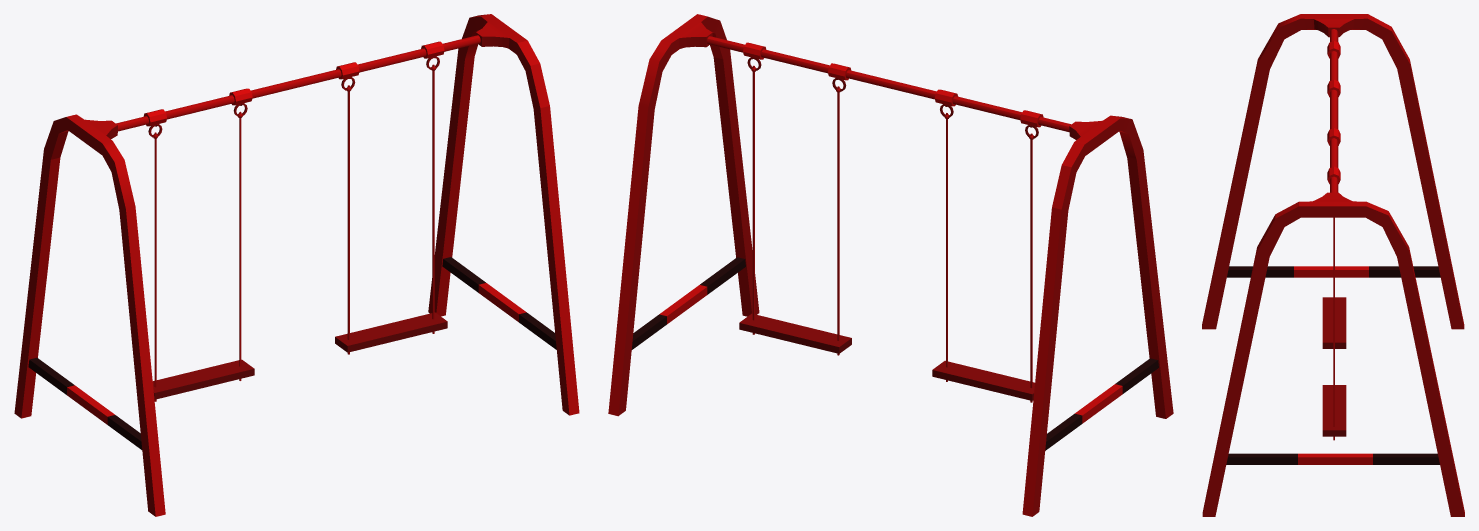
The model's file is Swing.glb.
The picture shows the model from 3 angles, left to right: view 1: azimuth 30°, elevation 25°; view 2: azimuth 150°, elevation 25°; view 3: azimuth 270°, elevation 25°; orthographic projection. The views are drawn at different scales.
Parts seen in each view (by area): view 1: Swing; view 2: Swing; view 3: Swing.
Boxes of the visible parts, box(x1,y1,x2,y2) form: Swing: box(14, 14, 579, 516); Swing: box(608, 14, 1173, 516); Swing: box(1202, 14, 1464, 516).
Size of the model in its own units: 14.88 by 11.26 by 8.6.
